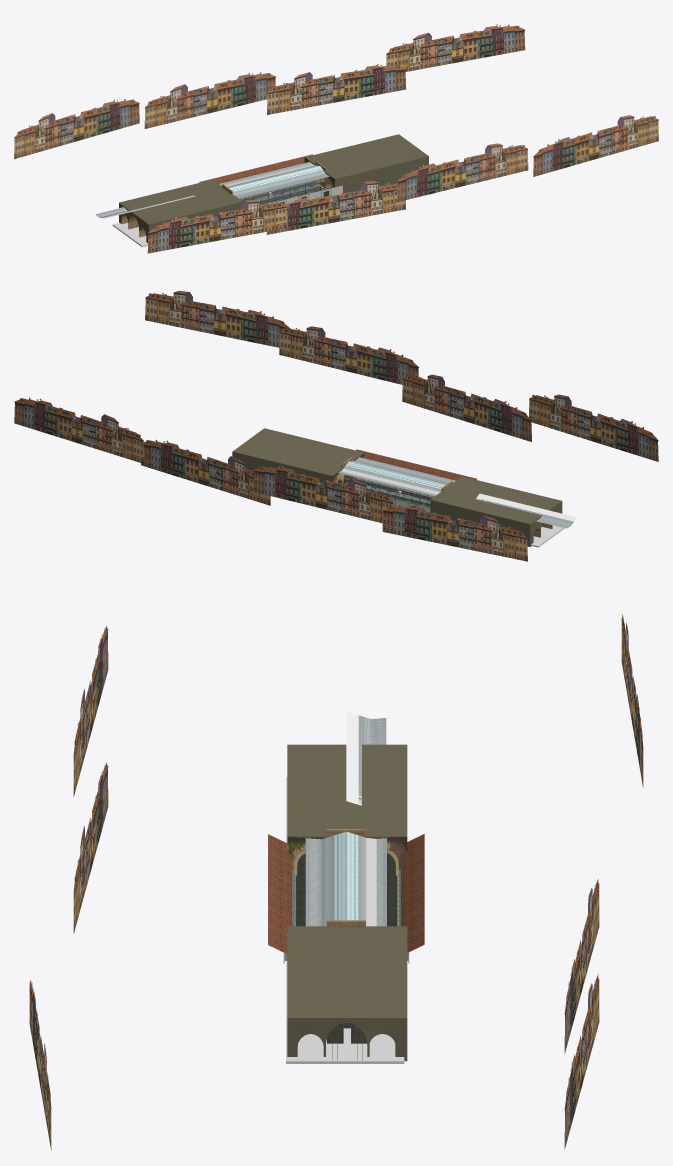
The picture shows the model from 3 angles, top to bottom: view 1: azimuth 30°, elevation 25°; view 2: azimuth 150°, elevation 25°; view 3: azimuth 270°, elevation 25°; orthographic projection. The views are drawn at different scales.
Parts seen in each view (by area): view 1: Plane.016, Plane.141, Plane.209, Plane.210, Plane.138, Plane.207, Plane.208, Plane.139, Plane.178, Plane.140, TELHADO.009, TELHADO.008 (+2 smaller); view 2: Plane.208, Plane.139, Plane.178, Plane.138, Plane.207, Plane.016, Plane.140, Plane.210, Plane.141, Plane.209, TELHADO.005; view 3: Plane.016, Plane.178, Plane.003, TELHADO.005, Plane.209, Plane.210, Plane.141, Plane.140, Plane.139, Plane.208, TELHADO.009, TELHADO.010 (+5 smaller).
Boxes of the visible parts, left/top/right/bottom form: Plane.016: left=304, top=134, right=428, bottom=197; Plane.141: left=147, top=199, right=286, bottom=253; Plane.209: left=267, top=63, right=406, bottom=114; Plane.210: left=386, top=24, right=525, bottom=71; Plane.138: left=396, top=143, right=528, bottom=202; Plane.207: left=144, top=72, right=275, bottom=128; Plane.208: left=14, top=99, right=139, bottom=159; Plane.139: left=533, top=115, right=658, bottom=176; Plane.178: left=119, top=179, right=242, bottom=242; Plane.140: left=266, top=181, right=405, bottom=234; TELHADO.009: left=258, top=173, right=298, bottom=191; TELHADO.008: left=289, top=166, right=329, bottom=183; Plane.208: left=382, top=505, right=527, bottom=561; Plane.139: left=145, top=290, right=290, bottom=347; Plane.178: left=430, top=476, right=562, bottom=546; Plane.138: left=279, top=326, right=418, bottom=384; Plane.207: left=253, top=465, right=393, bottom=523; Plane.016: left=232, top=428, right=364, bottom=484; Plane.140: left=402, top=374, right=531, bottom=441; Plane.210: left=14, top=397, right=143, bottom=463; Plane.141: left=529, top=394, right=658, bottom=461; Plane.209: left=141, top=440, right=270, bottom=505; TELHADO.005: left=476, top=493, right=576, bottom=528; Plane.016: left=287, top=926, right=407, bottom=1061; Plane.178: left=287, top=744, right=407, bottom=875; Plane.003: left=286, top=777, right=404, bottom=1063; TELHADO.005: left=346, top=711, right=386, bottom=805; Plane.209: left=564, top=878, right=599, bottom=1053; Plane.210: left=564, top=974, right=599, bottom=1149; Plane.141: left=73, top=625, right=108, bottom=796; Plane.140: left=73, top=762, right=108, bottom=933; Plane.139: left=29, top=980, right=51, bottom=1150; Plane.208: left=621, top=614, right=643, bottom=787; TELHADO.009: left=305, top=861, right=346, bottom=898; TELHADO.010: left=305, top=832, right=346, bottom=868.
Size of the model in its own units: 31531 by 4460 by 16684.
